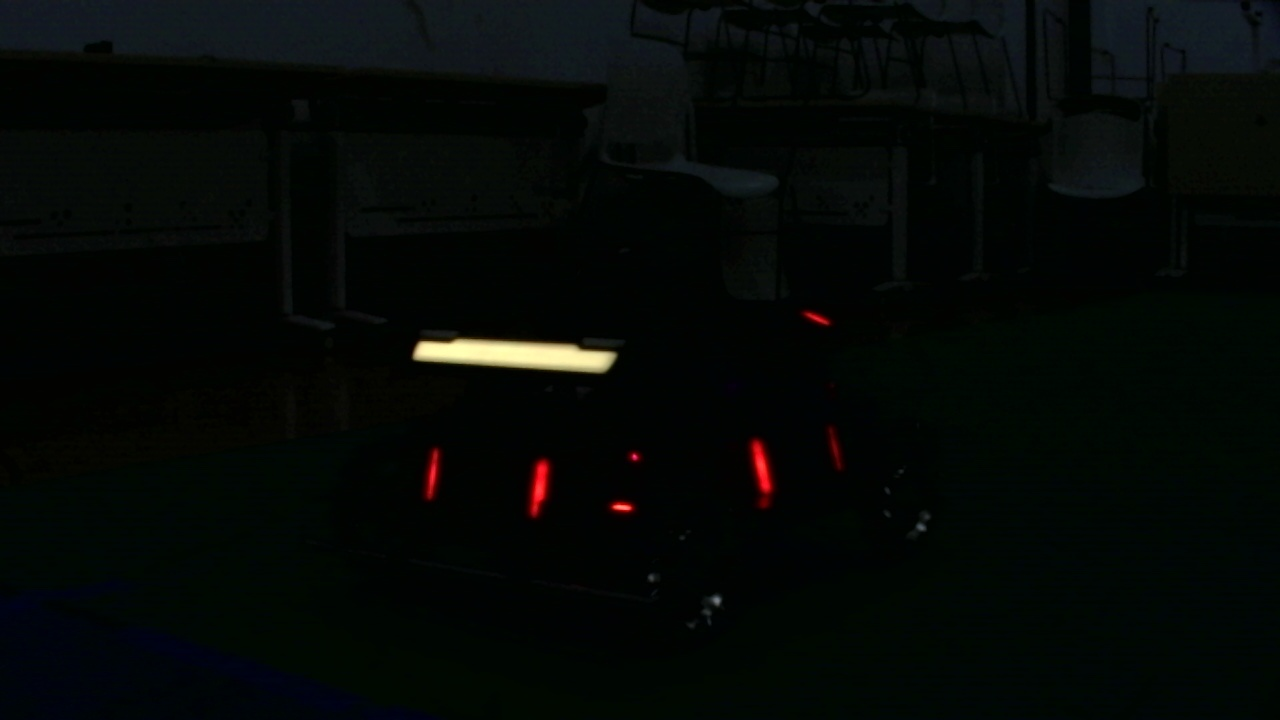lamp: (527, 448, 553, 519), (750, 436, 775, 494), (422, 446, 440, 502)
notpair1: (526, 440, 777, 520)
pair1: (423, 449, 551, 517)
